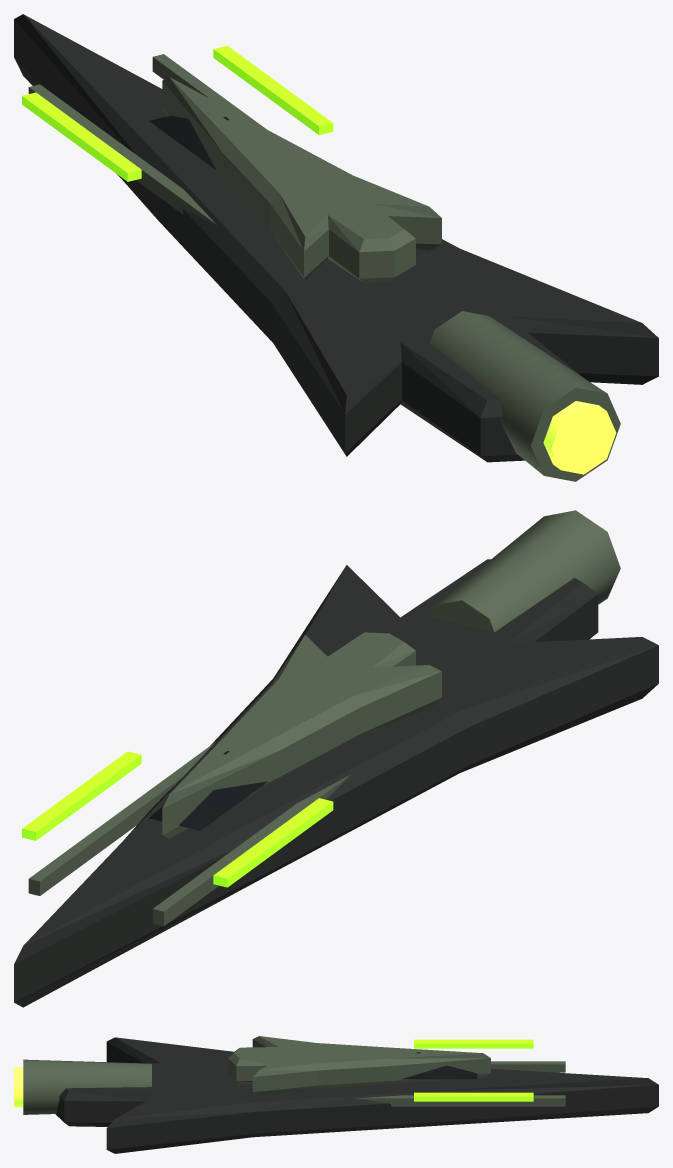
The model's file is Interceptor.glb.
The picture shows the model from 3 angles, top to bottom: view 1: azimuth 30°, elevation 25°; view 2: azimuth 150°, elevation 25°; view 3: azimuth 270°, elevation 25°; orthographic projection. The views are drawn at different scales.
Parts seen in each view (by area): view 1: interceptor_hull, interceptor_spine, interceptor_engine_nacelle, interceptor_stripe (×2), interceptor_railgun (×2), interceptor_engine_bell, interceptor_canopy; view 2: interceptor_hull, interceptor_spine, interceptor_engine_nacelle, interceptor_railgun (×2), interceptor_stripe (×2), interceptor_canopy; view 3: interceptor_hull, interceptor_spine, interceptor_engine_nacelle, interceptor_stripe (×2), interceptor_railgun (×2), interceptor_canopy, interceptor_engine_bell.
Boxes of the visible parts, bbox=[...] form: interceptor_hull: bbox=[14, 14, 658, 462]; interceptor_spine: bbox=[162, 77, 441, 283]; interceptor_engine_nacelle: bbox=[430, 311, 620, 481]; interceptor_stripe (×2): bbox=[22, 45, 333, 181]; interceptor_railgun (×2): bbox=[28, 54, 265, 224]; interceptor_engine_bell: bbox=[543, 401, 616, 474]; interceptor_canopy: bbox=[149, 115, 229, 170]; interceptor_hull: bbox=[14, 559, 658, 1007]; interceptor_spine: bbox=[162, 632, 441, 838]; interceptor_engine_nacelle: bbox=[430, 510, 620, 632]; interceptor_railgun (×2): bbox=[28, 742, 350, 926]; interceptor_stripe (×2): bbox=[22, 751, 333, 887]; interceptor_canopy: bbox=[149, 751, 267, 830]; interceptor_hull: bbox=[55, 1037, 658, 1153]; interceptor_spine: bbox=[228, 1036, 490, 1095]; interceptor_engine_nacelle: bbox=[23, 1059, 151, 1114]; interceptor_stripe (×2): bbox=[414, 1039, 533, 1101]; interceptor_railgun (×2): bbox=[353, 1061, 565, 1106]; interceptor_canopy: bbox=[401, 1052, 477, 1079]; interceptor_engine_bell: bbox=[14, 1067, 23, 1107].
Size of the model in its own units: 2.23 by 0.74 by 7.01.
